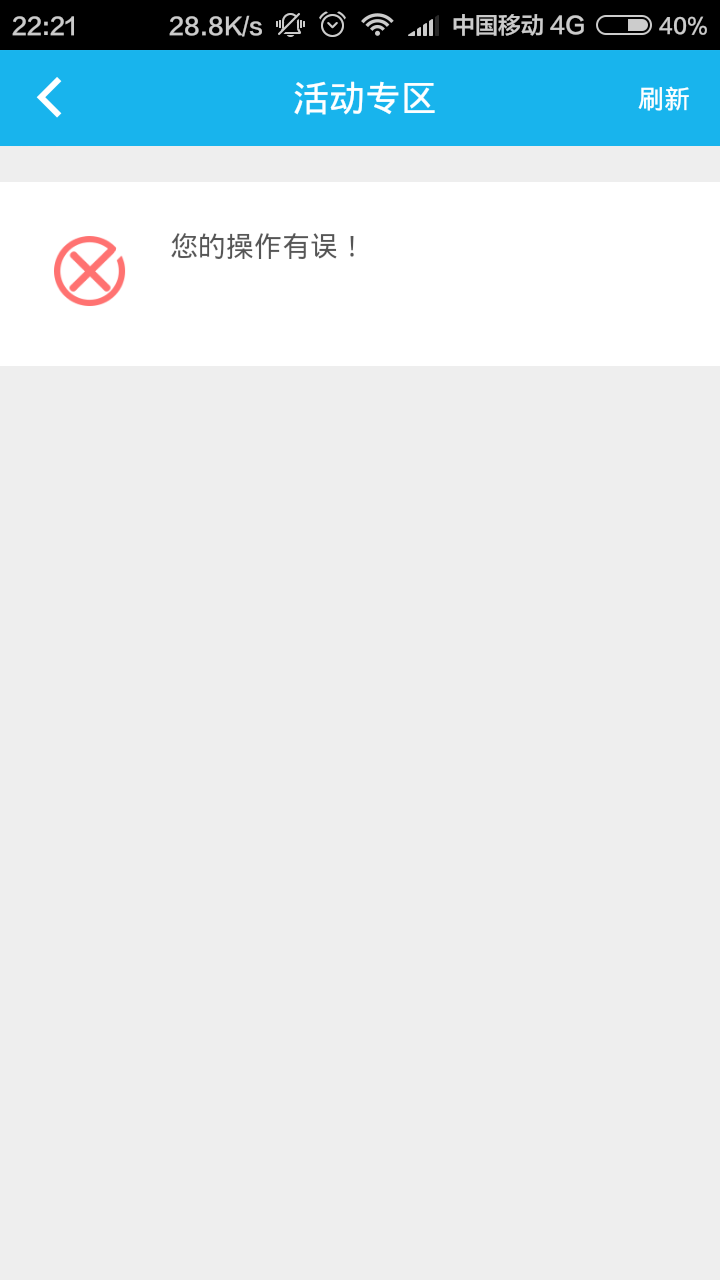textview: (18, 192, 536, 358), (142, 62, 543, 156)
